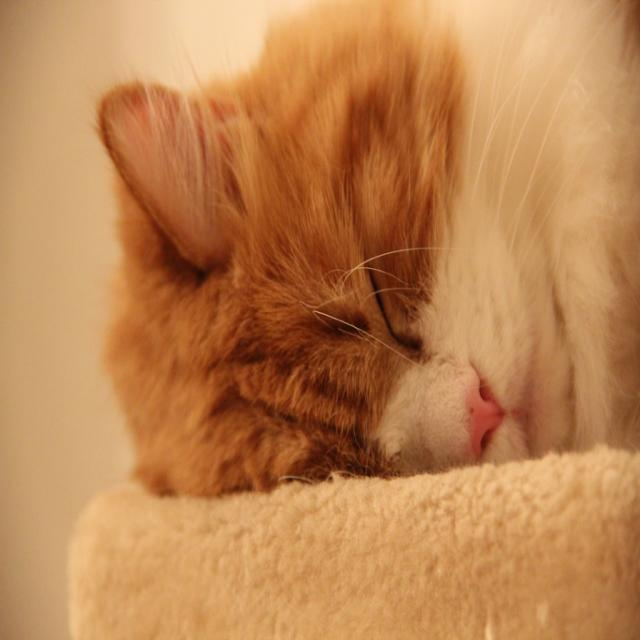Cat: (87, 0, 638, 489)
